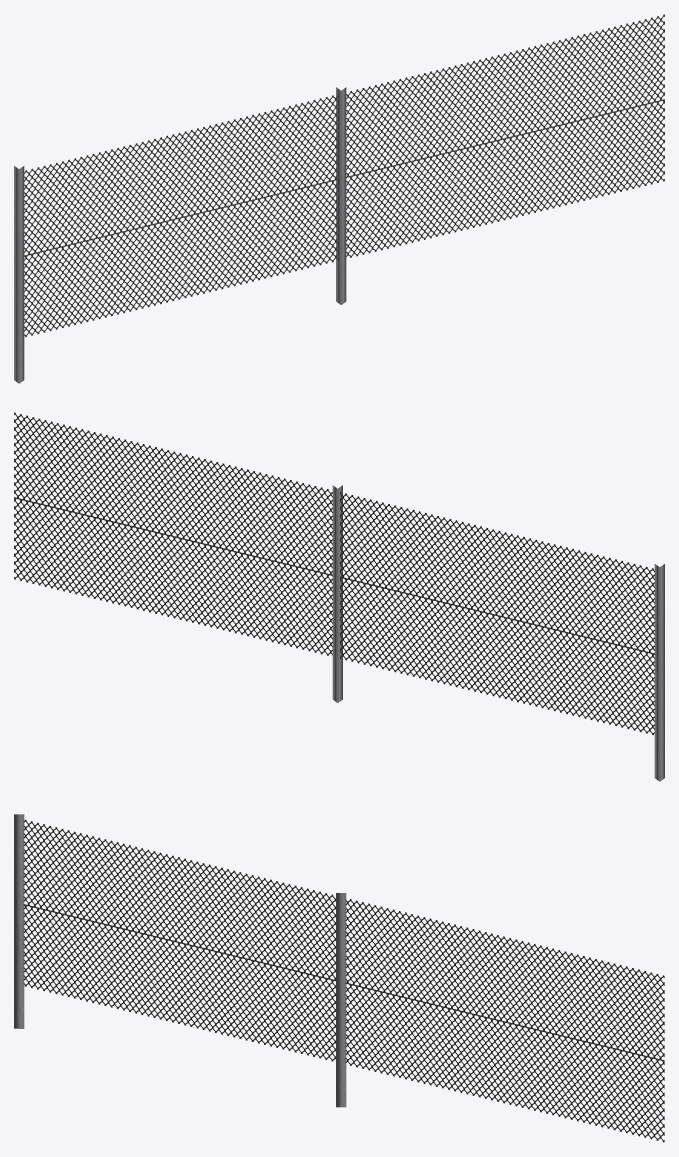
Rendered from fence-tall-chainlink-2s-cbj_LOD02.gltf.
3 views of the same model, one above another, from view 1: azimuth 30°, elevation 25°; view 2: azimuth 150°, elevation 25°; view 3: azimuth 330°, elevation 25° (orthographic).
Visible parts, largest first — view 1: fence02; view 2: fence02; view 3: fence02.
Part boxes in pixels (x1,y1,x2,y2): fence02: (14, 14, 664, 383); fence02: (14, 412, 664, 781); fence02: (14, 814, 664, 1142).
Size of what is drawn, in the model's own units: 7.37 by 2.33 by 0.1016.
